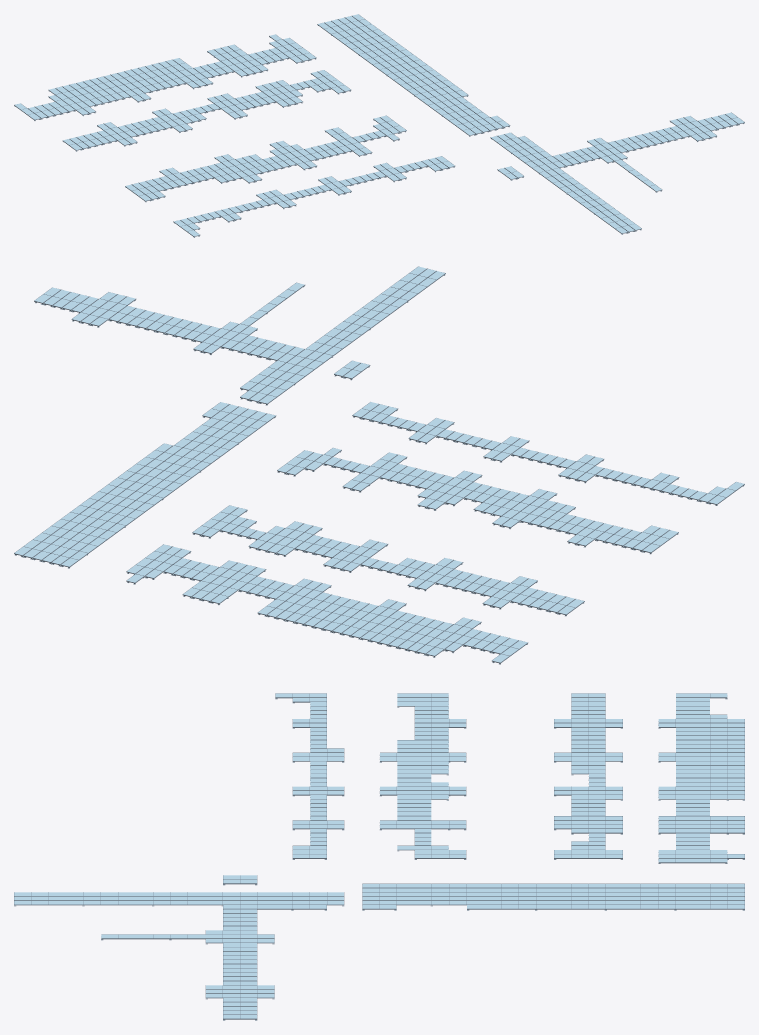
Rendered from SM_MPR4_SolarBank_02_1.fbx.
The picture shows the model from 3 angles, top to bottom: view 1: azimuth 30°, elevation 25°; view 2: azimuth 150°, elevation 25°; view 3: azimuth 270°, elevation 25°; orthographic projection. The views are drawn at different scales.
Visible parts, largest first — view 1: SM_MPR4_SolarBank_02_1; view 2: SM_MPR4_SolarBank_02_1; view 3: SM_MPR4_SolarBank_02_1.
Boxes of the visible parts, x1=… form: SM_MPR4_SolarBank_02_1: x1=14, y1=14, x2=744, y2=237; SM_MPR4_SolarBank_02_1: x1=14, y1=266, x2=744, y2=664; SM_MPR4_SolarBank_02_1: x1=14, y1=693, x2=744, y2=1020.
Bounding box in the file's own units: 8617 × 8184 × 24.6.
